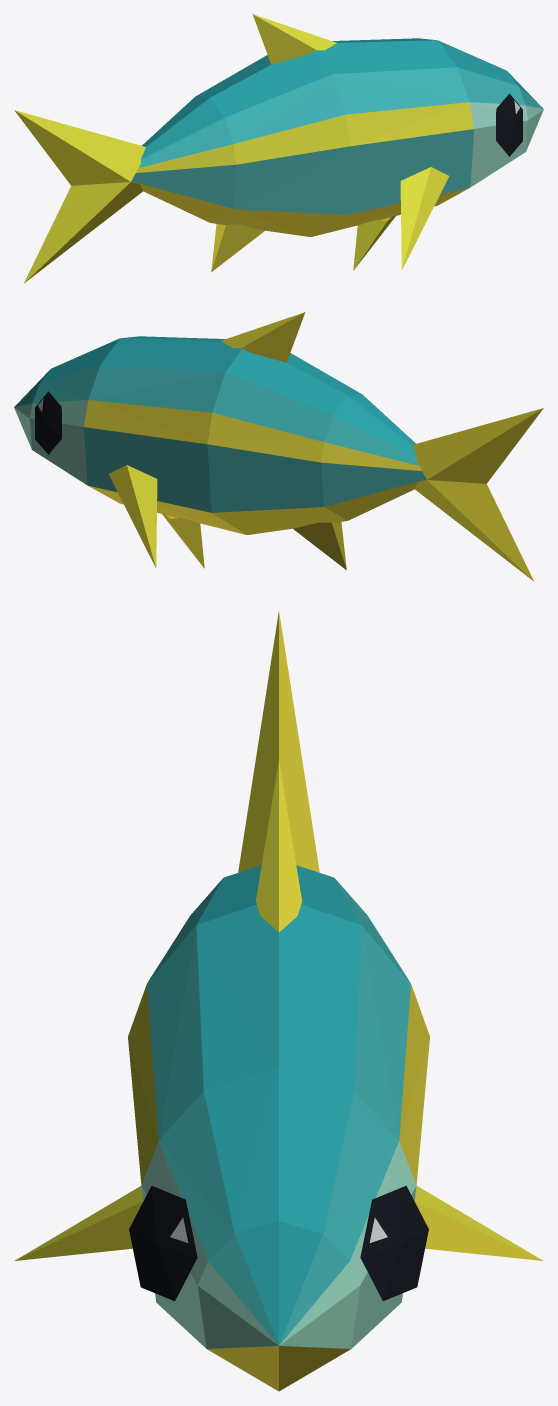
Rendered from fish_yellow.glb.
The picture shows the model from 3 angles, top to bottom: view 1: azimuth 30°, elevation 25°; view 2: azimuth 150°, elevation 25°; view 3: azimuth 270°, elevation 25°; orthographic projection. The views are drawn at different scales.
Visible parts, largest first — view 1: fish_yellow; view 2: fish_yellow; view 3: fish_yellow.
Part boxes in pixels (bbox=[...]): fish_yellow: bbox=[14, 14, 543, 283]; fish_yellow: bbox=[14, 312, 543, 581]; fish_yellow: bbox=[15, 611, 542, 1391].
Bounding box in the file's own units: 1 × 0.508 × 0.456.
